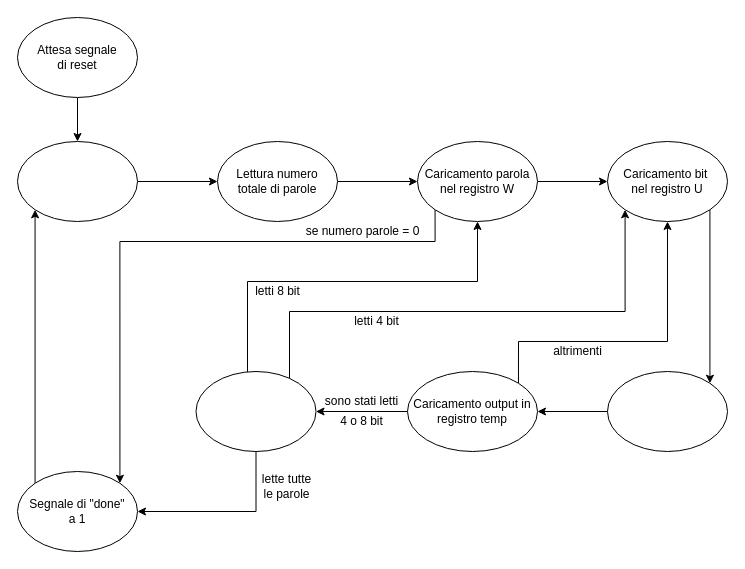
Image size: 745x569. Some labels were removed from this diagram. Each missing label, with the box of its shape:
Attesa segnale di start: (16, 140, 138, 222)
Generazione output: (606, 370, 728, 452)
Scrittura in memoria: (195, 370, 316, 452)
